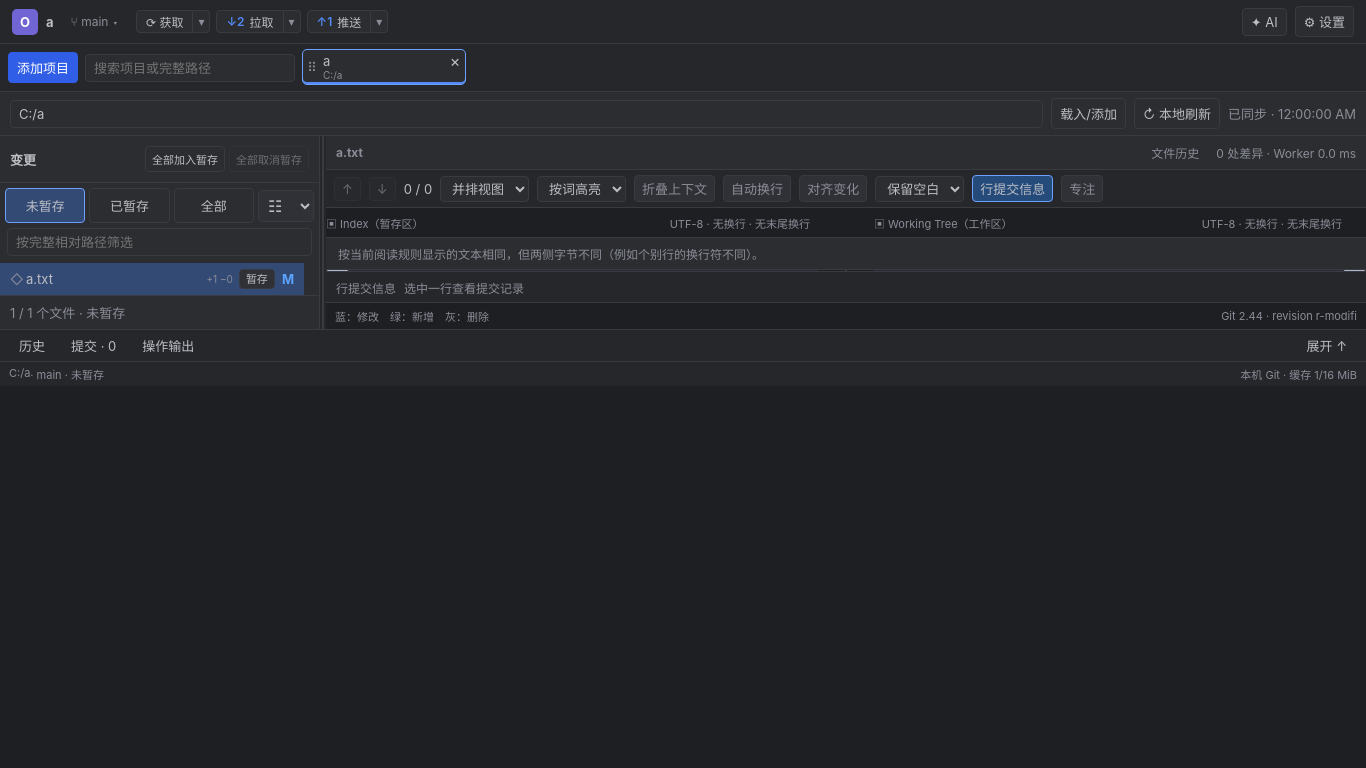
it: sync entry (B11) › shows fetch / pull / push with ahead / behind from the snapshot and fetches in one click without reading refs
Expected: the button "↓2 拉取" is shown, 216,10 -> 284,33
Expected: the button "↑1 推送" is shown, 306,10 -> 371,33
Click the button "⟳ 获取".
click(165, 22)  # box 136,10 -> 193,33
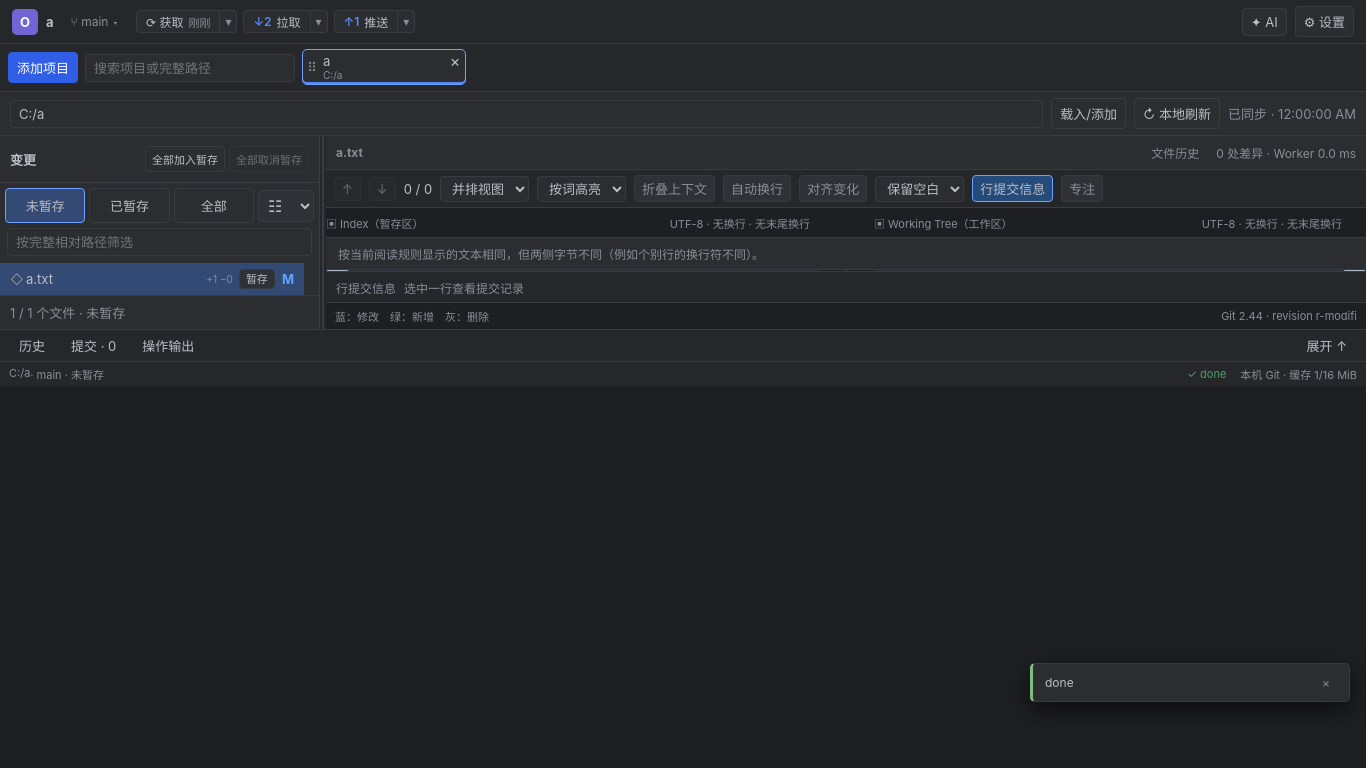
Now the message with class "succeeded" shows "done", box 1045,675 -> 1074,690
